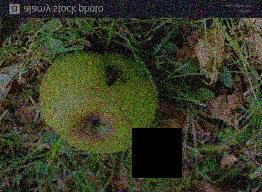rotten apple: (38, 51, 162, 158)
